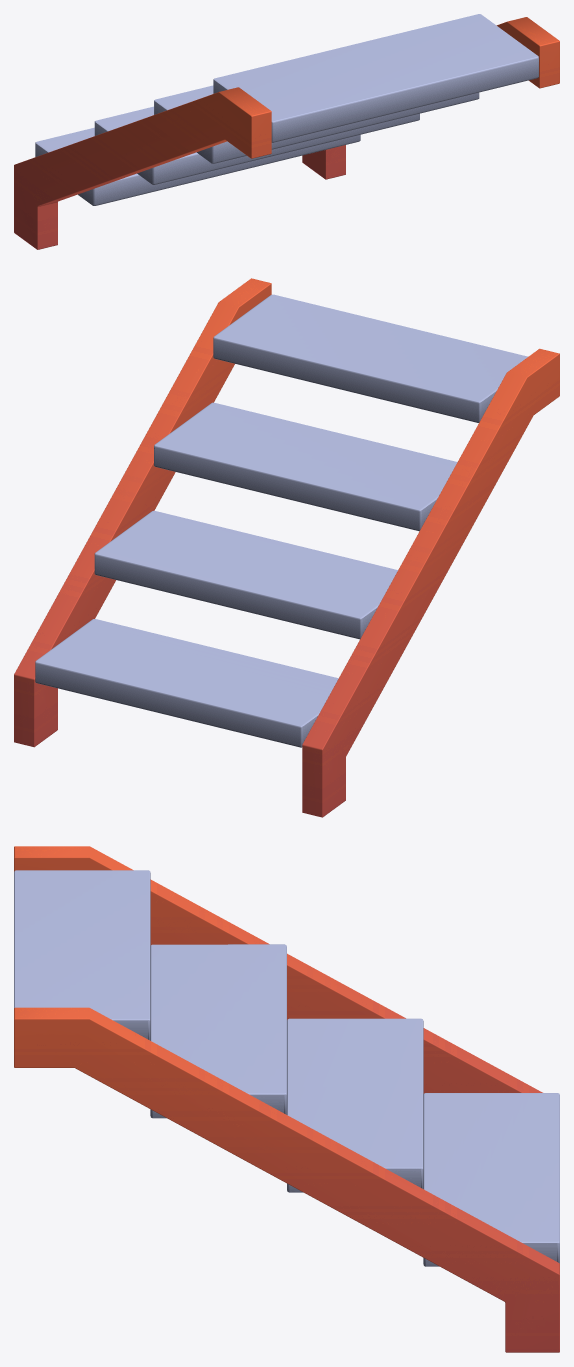
The model's file is stairs-sides-short.glb.
3 views of the same model, one above another, from view 1: azimuth 30°, elevation 25°; view 2: azimuth 150°, elevation 25°; view 3: azimuth 270°, elevation 25° (orthographic). The views are drawn at different scales.
Visible parts, largest first — view 1: stairs-sides-short, Group, Group.001; view 2: stairs-sides-short, Group, Group.001; view 3: stairs-sides-short, Group.001, Group.
Boxes of the visible parts, x1,y1,x2,y2 form: stairs-sides-short: (35,14,538,205); Group: (14,87,271,249); Group.001: (302,17,559,179); stairs-sides-short: (35,294,527,747); Group: (302,348,559,817); Group.001: (14,278,271,747); stairs-sides-short: (14,870,559,1266); Group.001: (14,1007,559,1352); Group: (14,846,542,1093).
Bounding box in the file's own units: 1.5 × 1.35 × 2.
3 materials, 3 textured.
